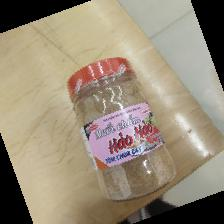Hao_hao: (67, 57, 178, 201)
